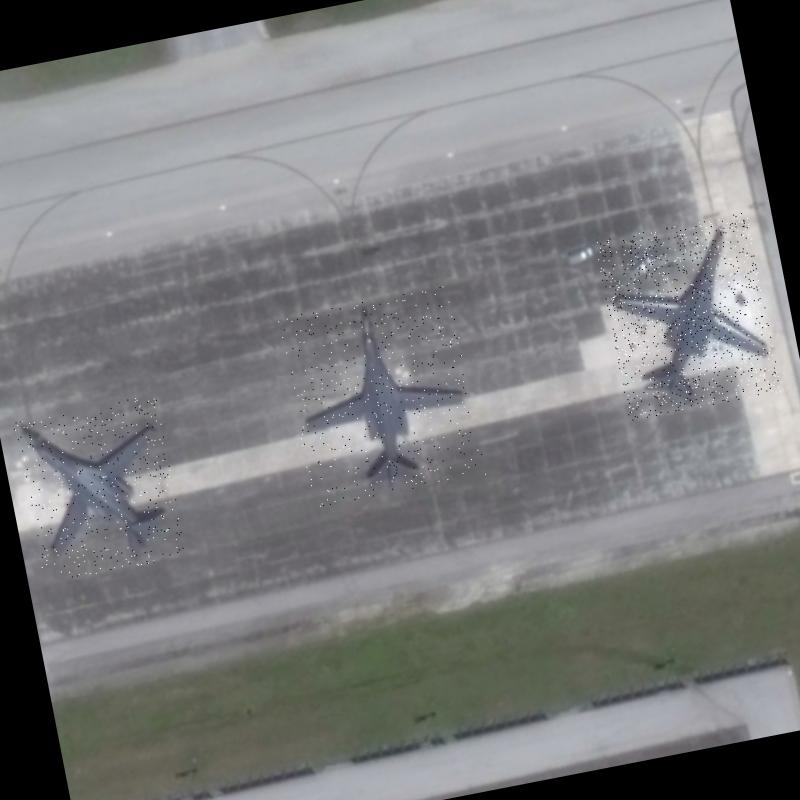A10: (277, 284, 486, 508), (594, 212, 782, 420), (12, 393, 187, 584)
